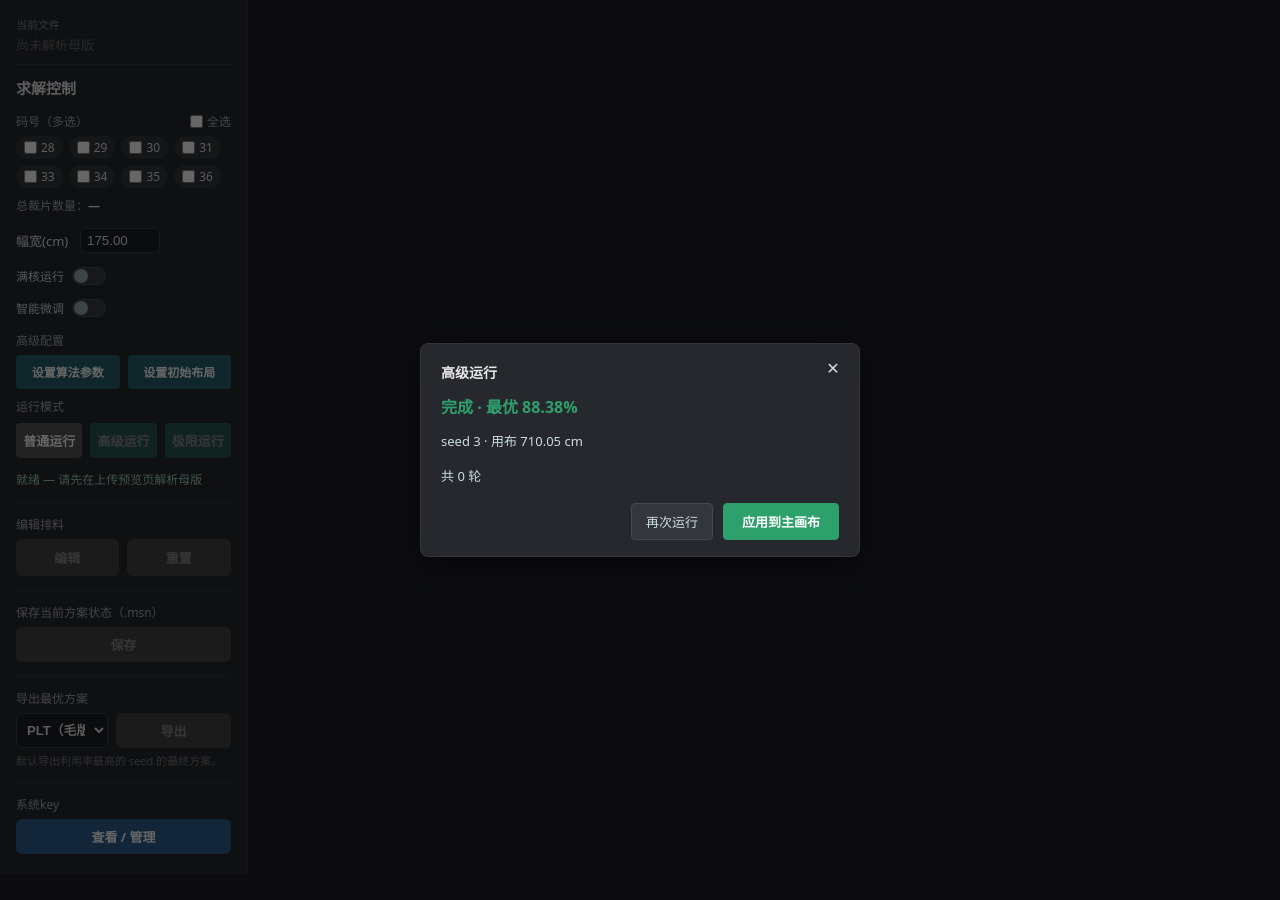
Scenario: NestingPage run-provenance (US-004) › apply extreme 结果（extremeStore.lastStart.time_total_s=600）→ origin={extreme,{time_total_s:600}} + 小字「极限运行(600s)」
Click the button with test id "strategy-apply-btn" at (781, 521), box [723, 503, 839, 540]
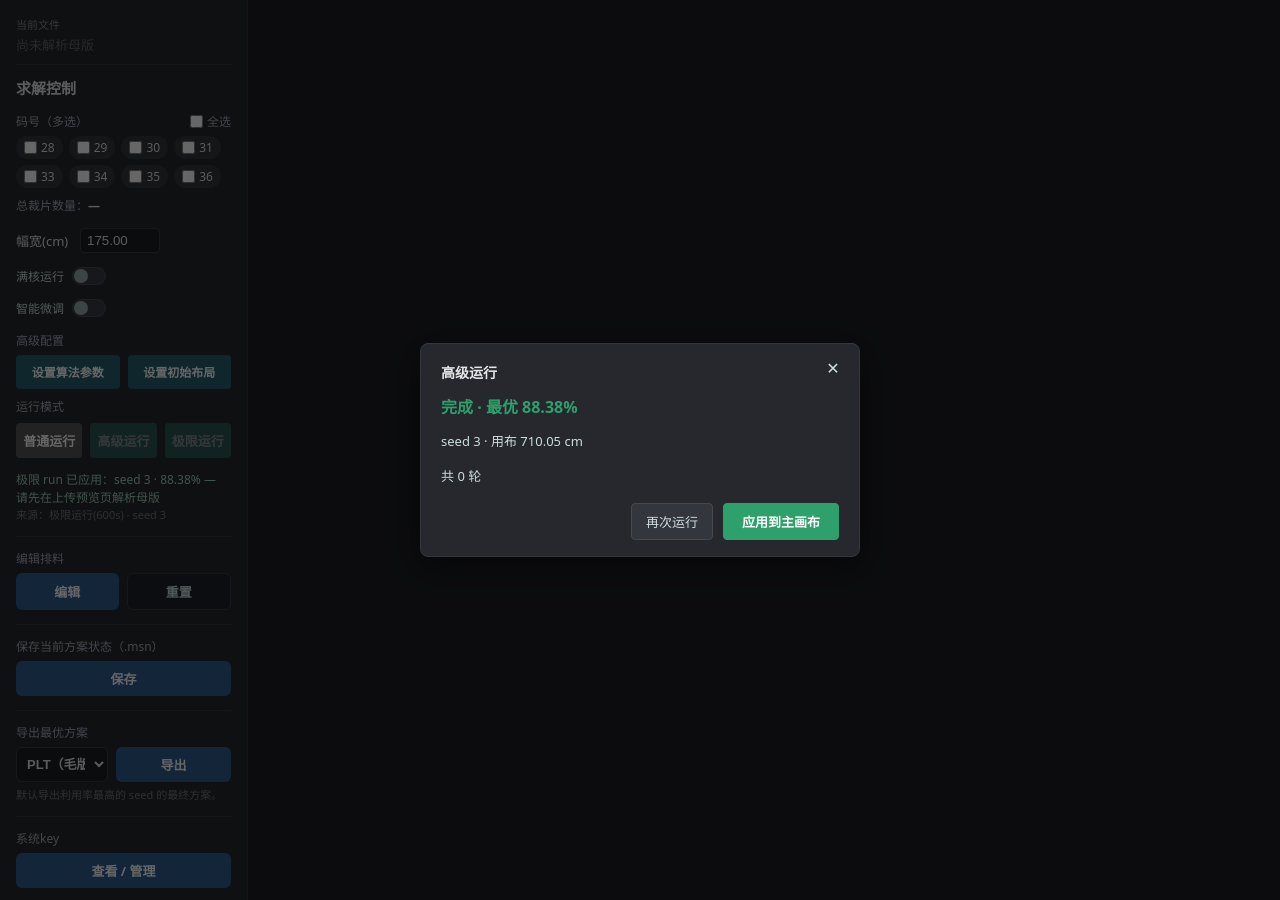
Now the text with test id "run-provenance" reads "来源：极限运行(600s) · seed 3", box [16, 507, 166, 522]
